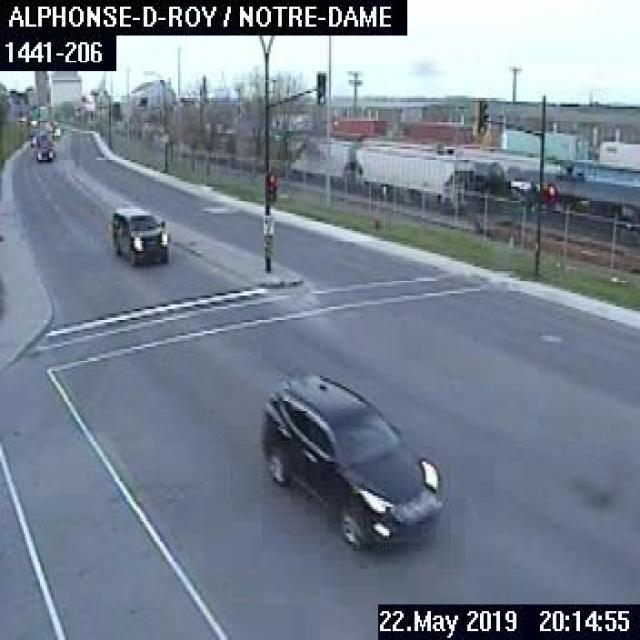vehicle: (258, 369, 444, 549), (111, 206, 168, 264), (34, 146, 54, 160)
